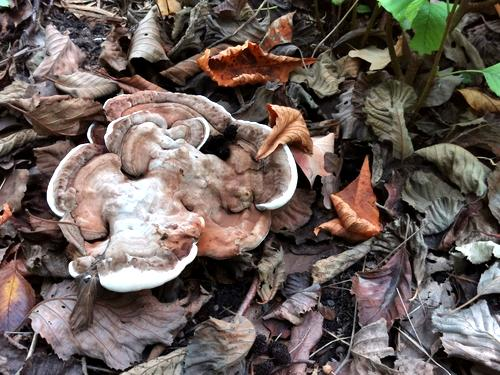Ganoderma - Fruit Body: (43, 85, 303, 296)
